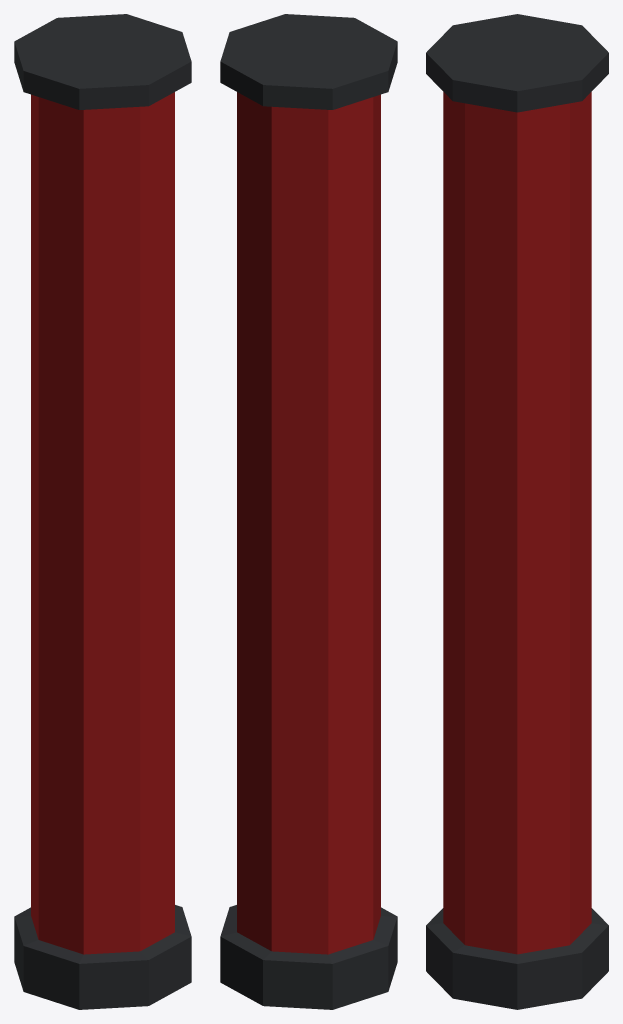
File: SM_Prop_NeonLight_Large_02.fbx
3 renders of one model, left to right at view 1: azimuth 30°, elevation 25°; view 2: azimuth 150°, elevation 25°; view 3: azimuth 270°, elevation 25°, orthographic.
Parts seen in each view (by area): view 1: SM_Prop_NeonLight_Large_02; view 2: SM_Prop_NeonLight_Large_02; view 3: SM_Prop_NeonLight_Large_02.
Boxes of the visible parts, left/top/right/bottom form: SM_Prop_NeonLight_Large_02: left=14, top=14, right=191, bottom=1009; SM_Prop_NeonLight_Large_02: left=220, top=14, right=397, bottom=1009; SM_Prop_NeonLight_Large_02: left=426, top=14, right=608, bottom=1009.
Size of the model in its own units: 68.01 by 377 by 68.01.
